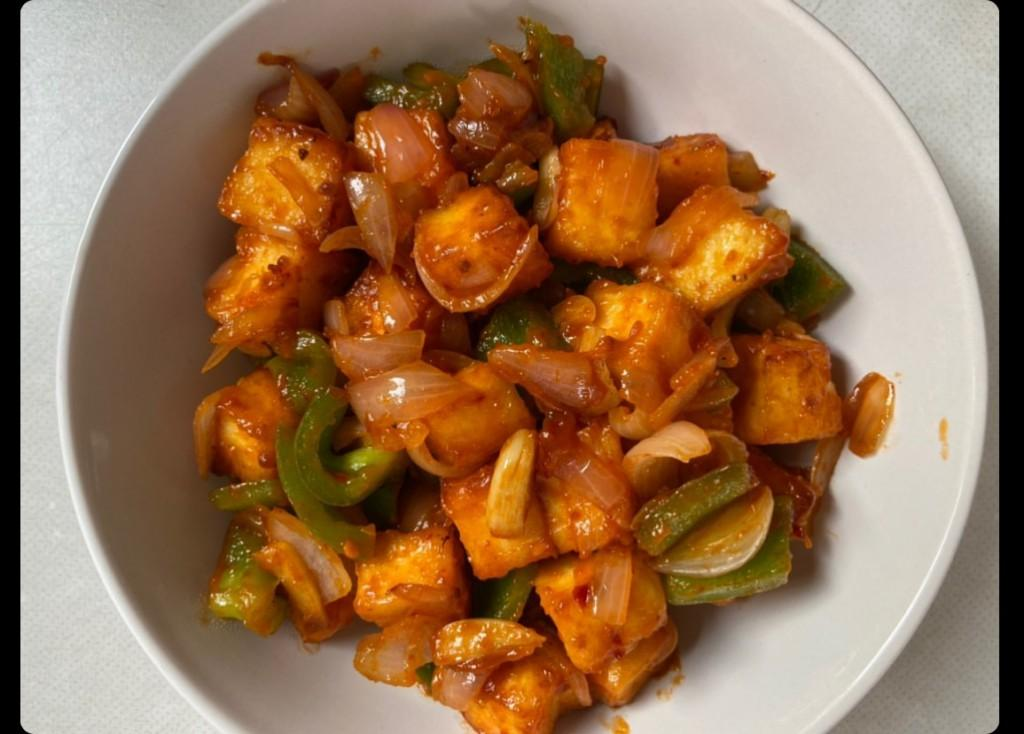AlooMasala: (192, 18, 893, 734)
